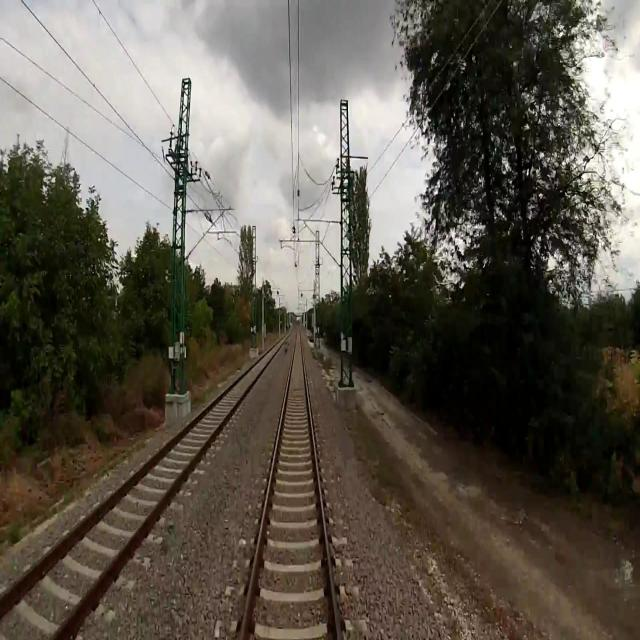rail-track: (0, 345, 278, 639), (244, 331, 336, 639)
